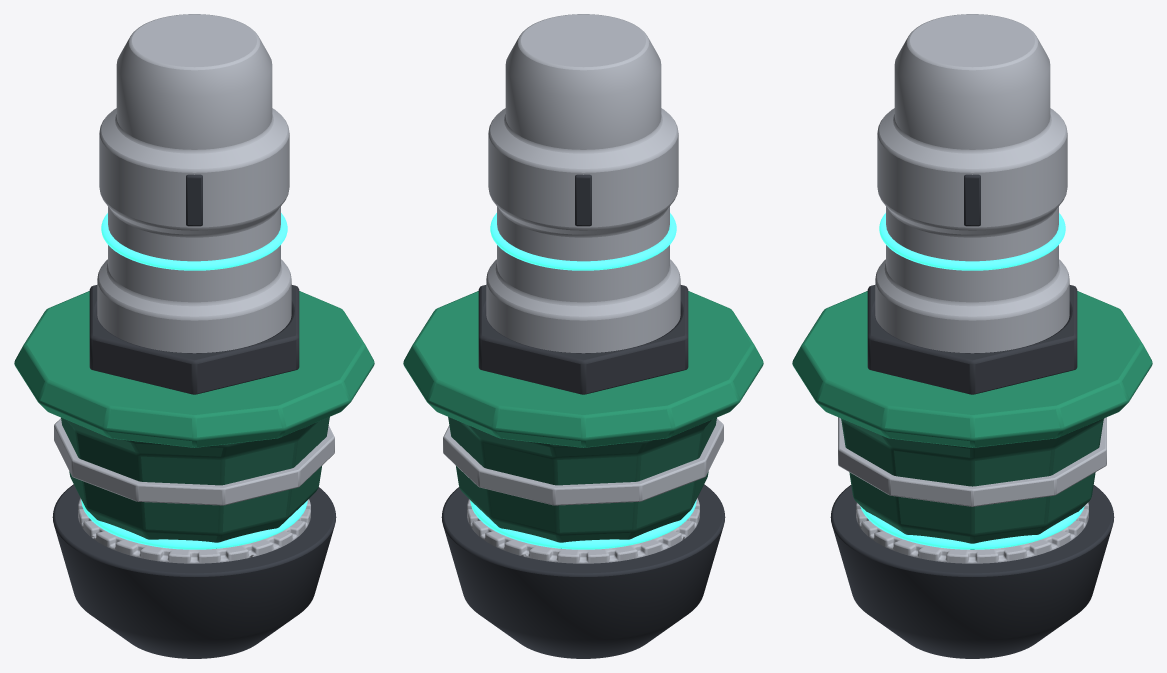
Rendered from kuppel.glb.
The picture shows the model from 3 angles, left to right: view 1: azimuth 30°, elevation 25°; view 2: azimuth 150°, elevation 25°; view 3: azimuth 270°, elevation 25°; orthographic projection.
Parts seen in each view (by area): view 1: Schaft.004, Flansch.004, Kontakt.002, Gehaeuse.004, Kragen.004, Metallband.004, Fussring.004, Schaftleuchte.004, Fussleuchte.005, Rippe.022; view 2: Schaft.004, Flansch.004, Kontakt.002, Gehaeuse.004, Kragen.004, Metallband.004, Fussring.004, Schaftleuchte.004, Fussleuchte.005, Rippe.021; view 3: Schaft.004, Flansch.004, Kontakt.002, Gehaeuse.004, Kragen.004, Metallband.004, Fussring.004, Schaftleuchte.004, Fussleuchte.005, Rippe.020.
Part boxes in pixels (x1=…): Schaft.004: x1=97, y1=14, x2=291, y2=353; Flansch.004: x1=14, y1=291, x2=374, y2=447; Kontakt.002: x1=52, y1=484, x2=336, y2=658; Gehaeuse.004: x1=61, y1=417, x2=329, y2=548; Kragen.004: x1=89, y1=285, x2=299, y2=394; Metallband.004: x1=54, y1=418, x2=334, y2=505; Fussring.004: x1=78, y1=498, x2=310, y2=563; Schaftleuchte.004: x1=101, y1=213, x2=287, y2=270; Fussleuchte.005: x1=81, y1=500, x2=307, y2=549; Rippe.022: x1=186, y1=174, x2=202, y2=226; Schaft.004: x1=486, y1=14, x2=680, y2=353; Flansch.004: x1=403, y1=291, x2=763, y2=447; Kontakt.002: x1=441, y1=484, x2=725, y2=658; Gehaeuse.004: x1=448, y1=417, x2=716, y2=548; Kragen.004: x1=478, y1=285, x2=688, y2=394; Metallband.004: x1=443, y1=418, x2=723, y2=505; Fussring.004: x1=467, y1=498, x2=699, y2=563; Schaftleuchte.004: x1=490, y1=213, x2=676, y2=270; Fussleuchte.005: x1=470, y1=500, x2=696, y2=549; Rippe.021: x1=575, y1=174, x2=591, y2=226; Schaft.004: x1=875, y1=14, x2=1069, y2=353; Flansch.004: x1=792, y1=291, x2=1152, y2=447; Kontakt.002: x1=830, y1=485, x2=1114, y2=658; Gehaeuse.004: x1=841, y1=418, x2=1103, y2=549; Kragen.004: x1=867, y1=285, x2=1077, y2=394; Metallband.004: x1=838, y1=417, x2=1106, y2=506; Fussring.004: x1=856, y1=502, x2=1088, y2=563; Schaftleuchte.004: x1=879, y1=213, x2=1065, y2=270; Fussleuchte.005: x1=860, y1=506, x2=1084, y2=549; Rippe.020: x1=964, y1=174, x2=980, y2=226.
Bounding box in the file's own units: 0.1668 × 0.306 × 0.1668.
